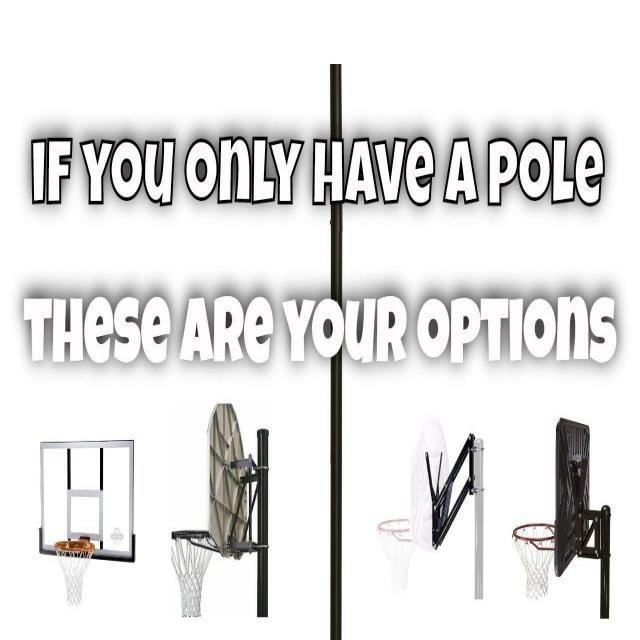hoop: (171, 530, 215, 618), (512, 522, 555, 600), (377, 518, 416, 592), (54, 540, 95, 606)
